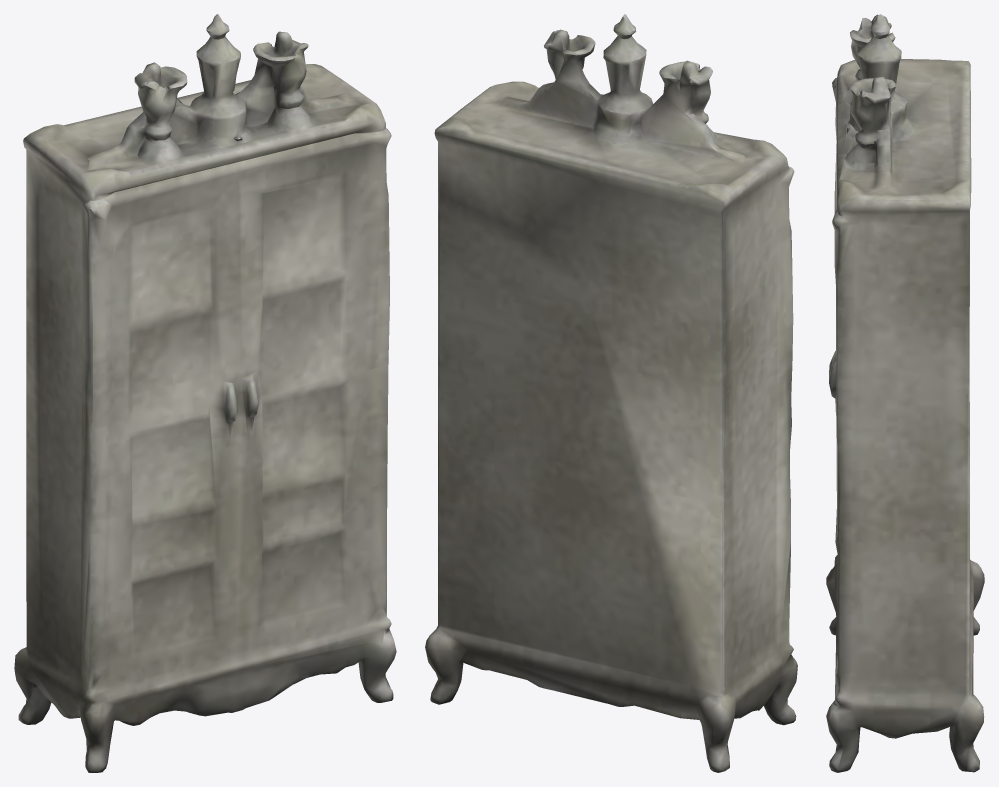
File: ornate-white-painted-medicine-cabinet-v001.glb
3 renders of one model, left to right at view 1: azimuth 30°, elevation 25°; view 2: azimuth 150°, elevation 25°; view 3: azimuth 270°, elevation 25°, orthographic. The views are drawn at different scales.
Parts seen in each view (by area): view 1: ornate-white-painted-medicine-cabinet; view 2: ornate-white-painted-medicine-cabinet; view 3: ornate-white-painted-medicine-cabinet.
Boxes of the visible parts, x1,y1,x2,y2 form: ornate-white-painted-medicine-cabinet: (14,14,396,772); ornate-white-painted-medicine-cabinet: (425,14,797,772); ornate-white-painted-medicine-cabinet: (826,14,984,772).
Bounding box in the file's own units: 0.8091 × 1.76 × 0.3676.
Materials: 1 (1 with a texture image).
